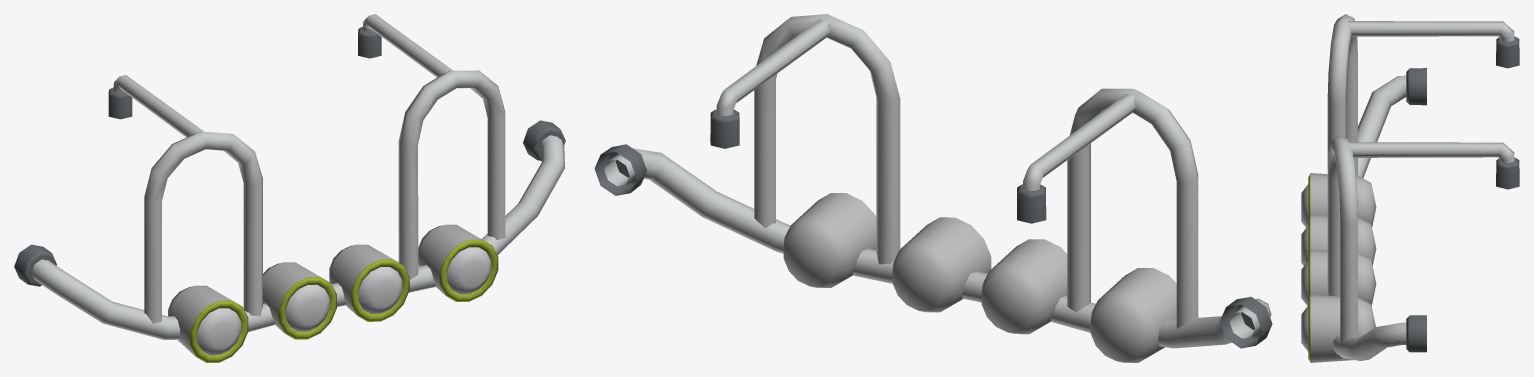
Rendered from Car_15_FrontBumper_Cool.fbx.
The picture shows the model from 3 angles, left to right: view 1: azimuth 30°, elevation 25°; view 2: azimuth 150°, elevation 25°; view 3: azimuth 270°, elevation 25°; orthographic projection. The views are drawn at different scales.
Parts seen in each view (by area): view 1: Car_15_FrontBumper_Cool; view 2: Car_15_FrontBumper_Cool; view 3: Car_15_FrontBumper_Cool.
Part boxes in pixels (<box>): Car_15_FrontBumper_Cool: <box>14,14,565,362</box>; Car_15_FrontBumper_Cool: <box>594,14,1272,362</box>; Car_15_FrontBumper_Cool: <box>1301,14,1519,362</box>.
Bounding box in the file's own units: 183 × 63.97 × 70.64.
